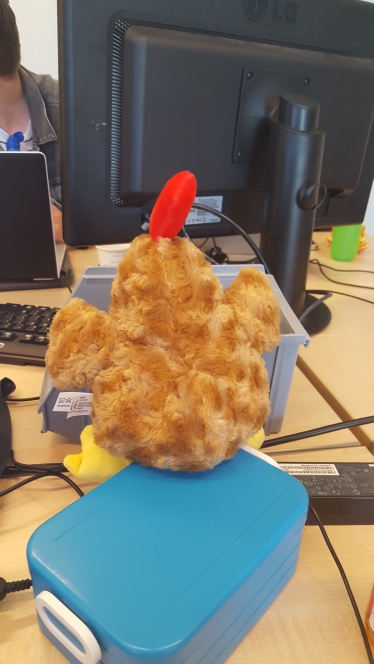chicken_back: (47, 166, 283, 475)
